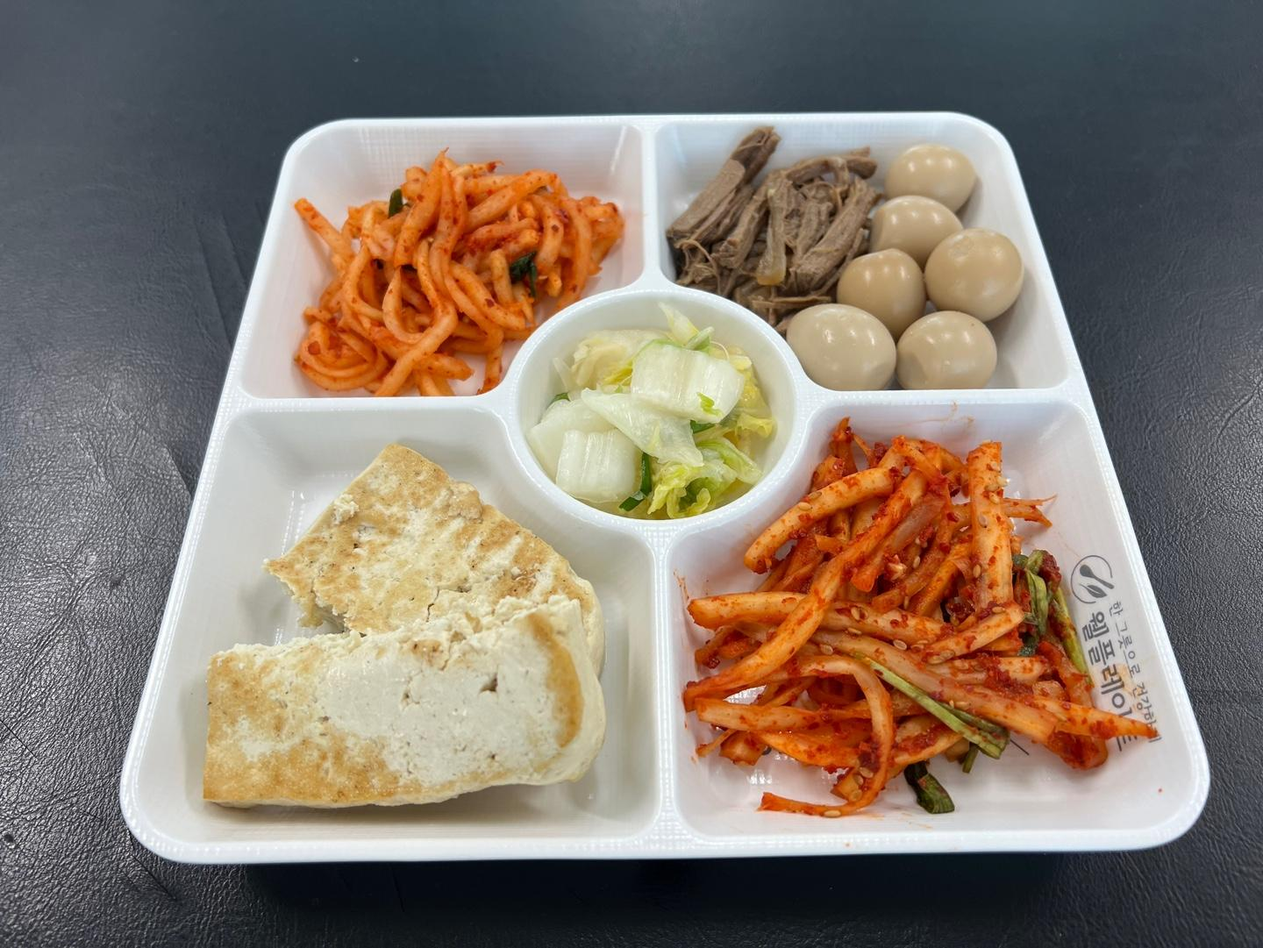food: (675, 421, 1154, 787), (699, 422, 1140, 817), (194, 472, 605, 818), (198, 445, 607, 787), (660, 128, 1029, 392), (292, 153, 627, 401), (684, 133, 1013, 370), (306, 156, 604, 387), (526, 305, 777, 521), (544, 327, 773, 510)
